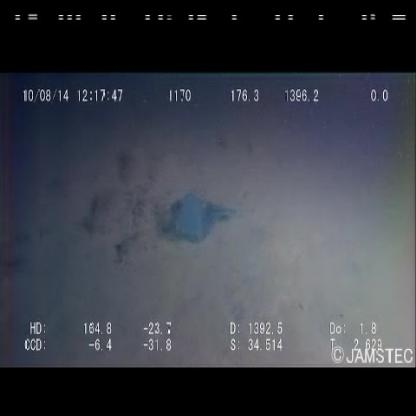Rác: (156, 186, 245, 247)
